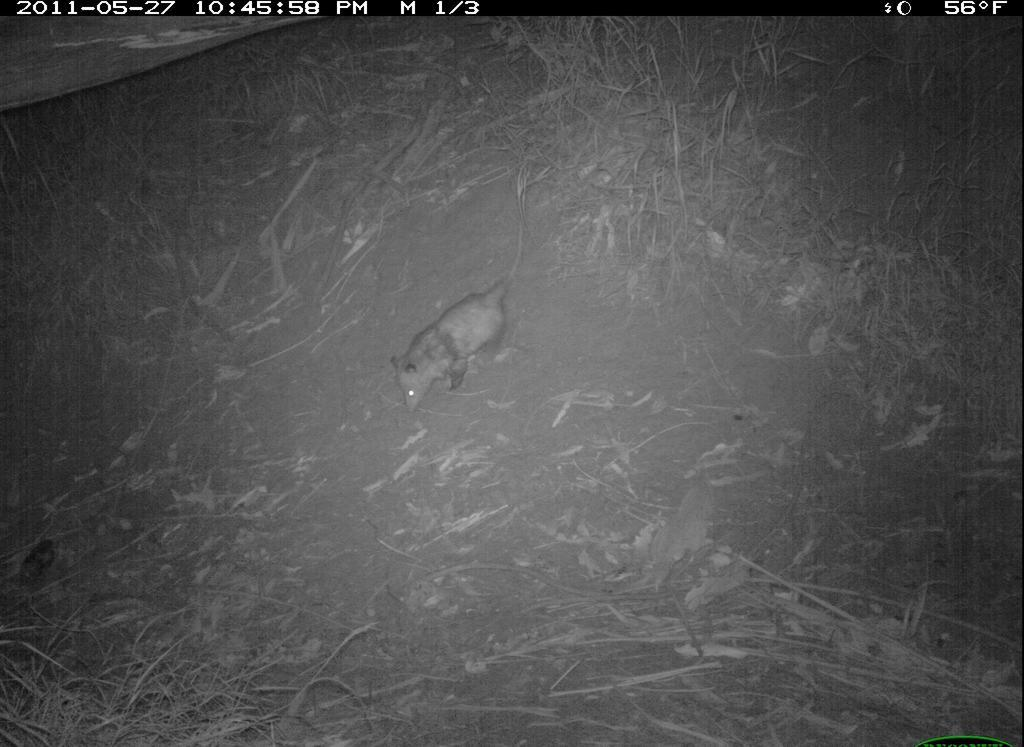opossum: (387, 199, 538, 425)
